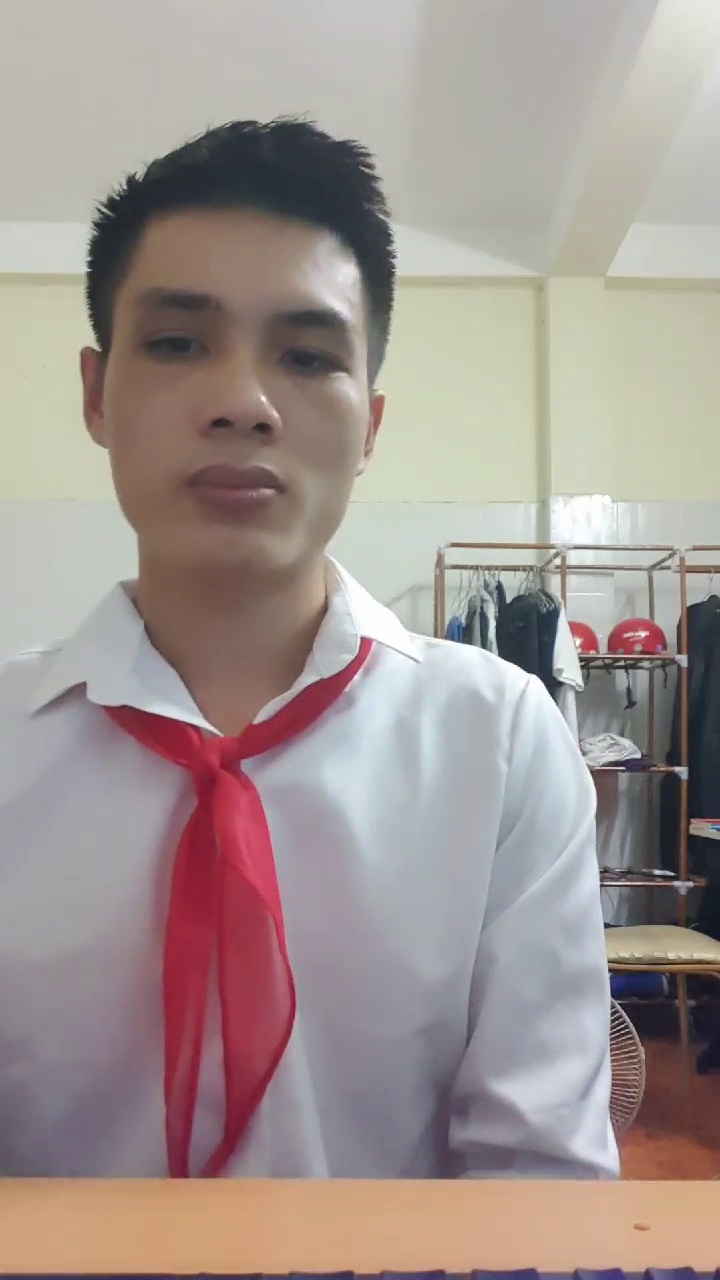redscarf: (149, 715, 307, 1107)
